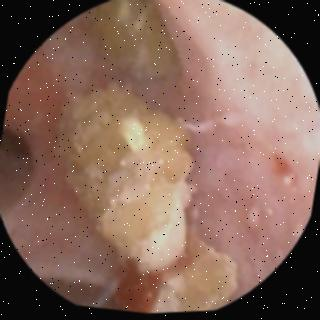stone: (58, 86, 196, 277), (96, 0, 179, 80), (150, 240, 237, 315)
tissue: (145, 0, 319, 285), (0, 18, 151, 313)
